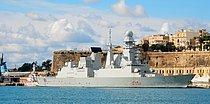MIL_Ship: (31, 29, 196, 89)
